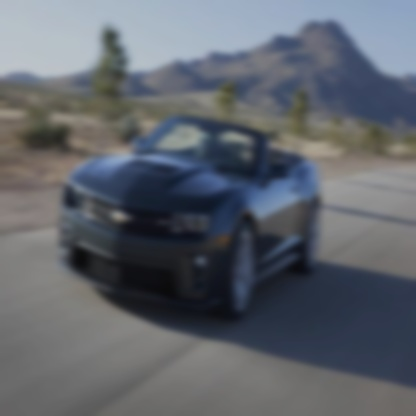Vehicle: (56, 112, 318, 314)
